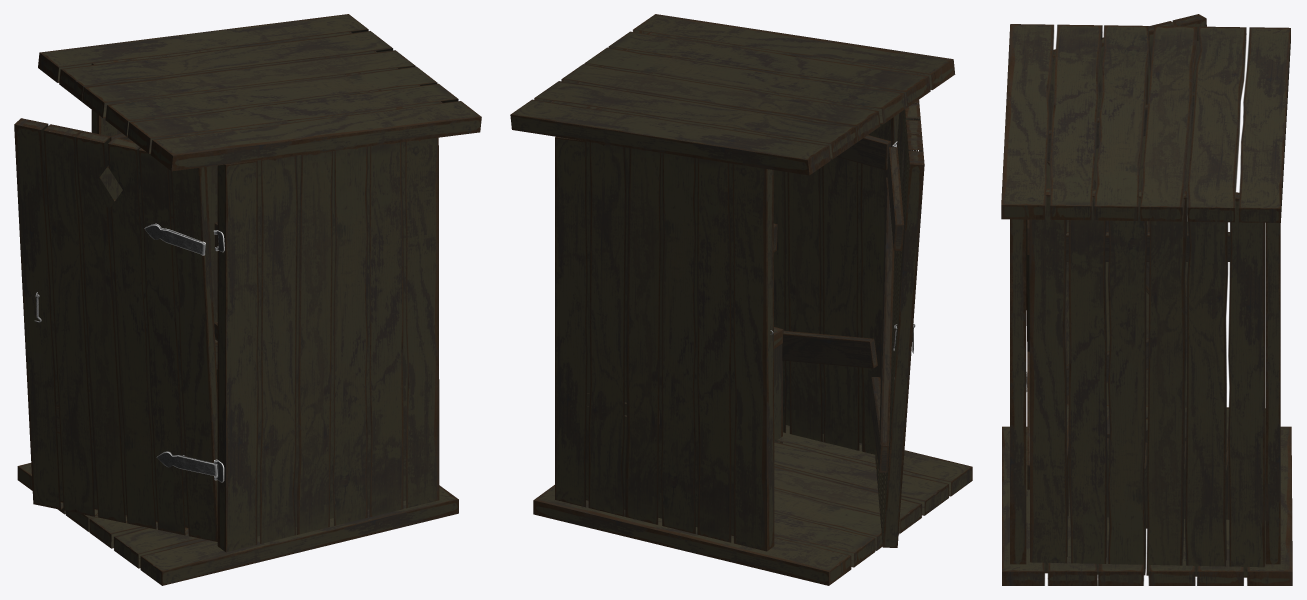
Rendered from toilet(1).glb.
The picture shows the model from 3 angles, left to right: view 1: azimuth 30°, elevation 25°; view 2: azimuth 150°, elevation 25°; view 3: azimuth 270°, elevation 25°; orthographic projection.
Visible parts, largest first — view 1: Object_2; view 2: Object_2; view 3: Object_2.
Boxes of the visible parts, left/top/right/bottom form: Object_2: left=14, top=14, right=481, bottom=585; Object_2: left=510, top=14, right=972, bottom=585; Object_2: left=1001, top=14, right=1292, bottom=585.
Size of the model in its own units: 10.78 by 11.61 by 7.23.
1 material, 1 textured.
